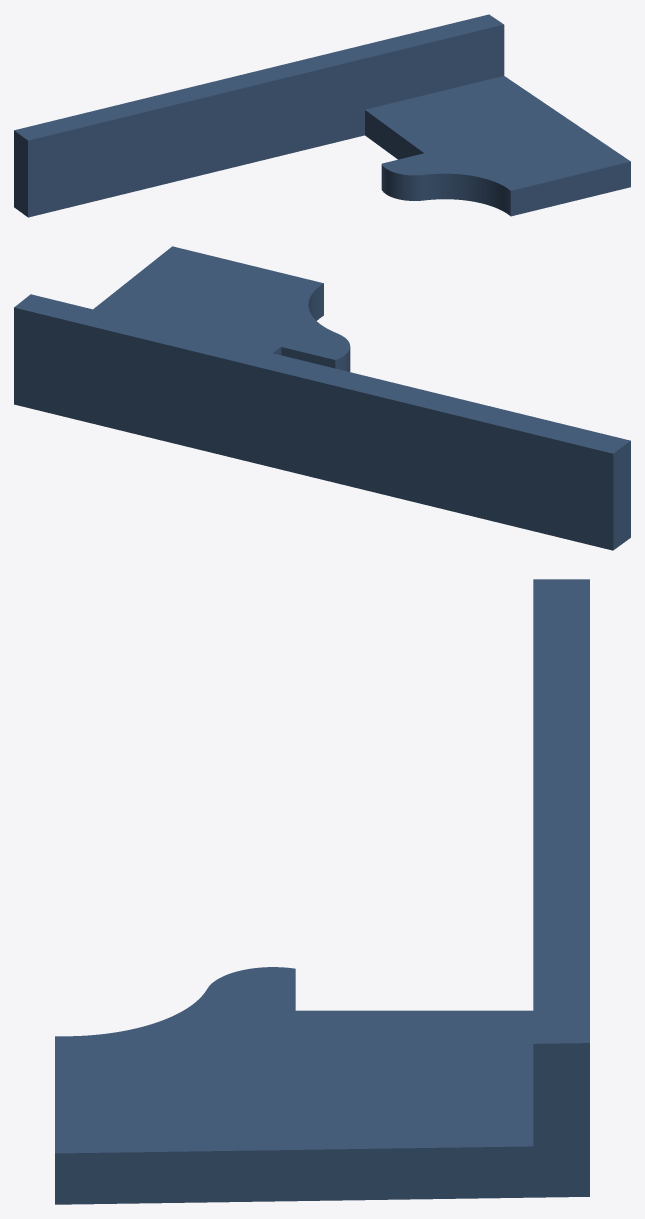
Rendered from VERGE_Model_Refrigerator_9.obj.
The picture shows the model from 3 angles, top to bottom: view 1: azimuth 30°, elevation 25°; view 2: azimuth 150°, elevation 25°; view 3: azimuth 270°, elevation 25°; orthographic projection. The views are drawn at different scales.
Parts seen in each view (by area): view 1: VERGE_Model_Refrigerator_9; view 2: VERGE_Model_Refrigerator_9; view 3: VERGE_Model_Refrigerator_9.
Boxes of the visible parts, left/top/right/bottom form: VERGE_Model_Refrigerator_9: left=14, top=14, right=630, bottom=217; VERGE_Model_Refrigerator_9: left=14, top=246, right=630, bottom=550; VERGE_Model_Refrigerator_9: left=55, top=579, right=589, bottom=1204.
Bounding box in the file's own units: 98.65 × 15 × 47.28.
